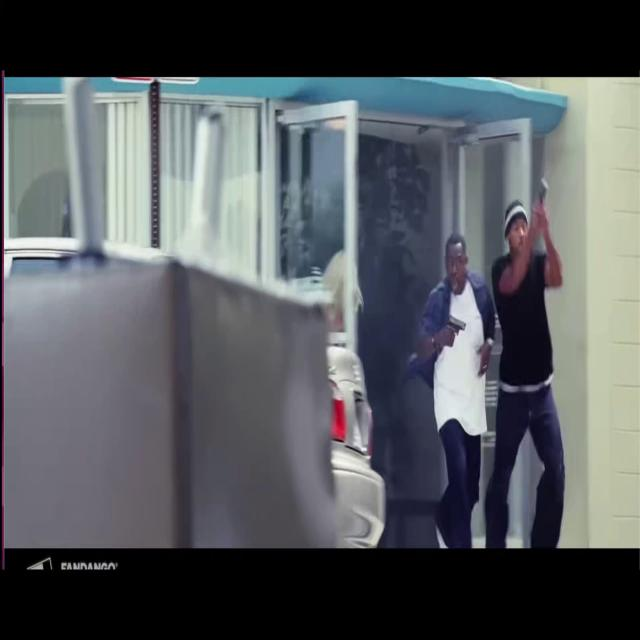weapons: (526, 166, 553, 238), (442, 306, 468, 349)
